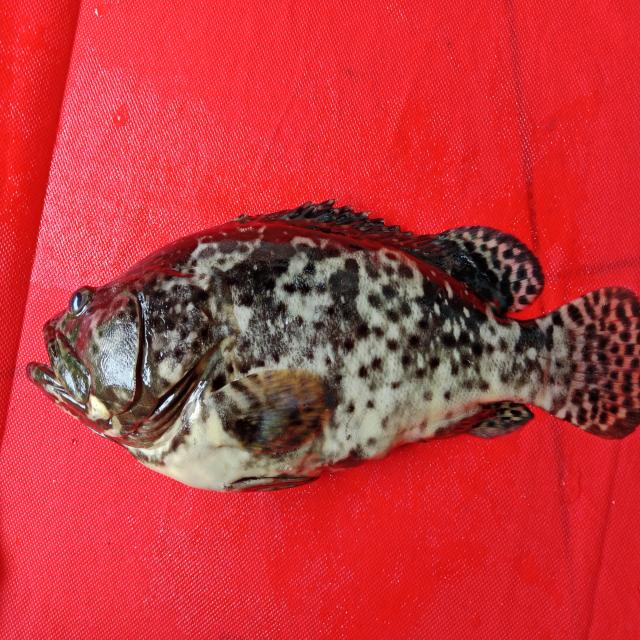ikan: (19, 186, 634, 510)
